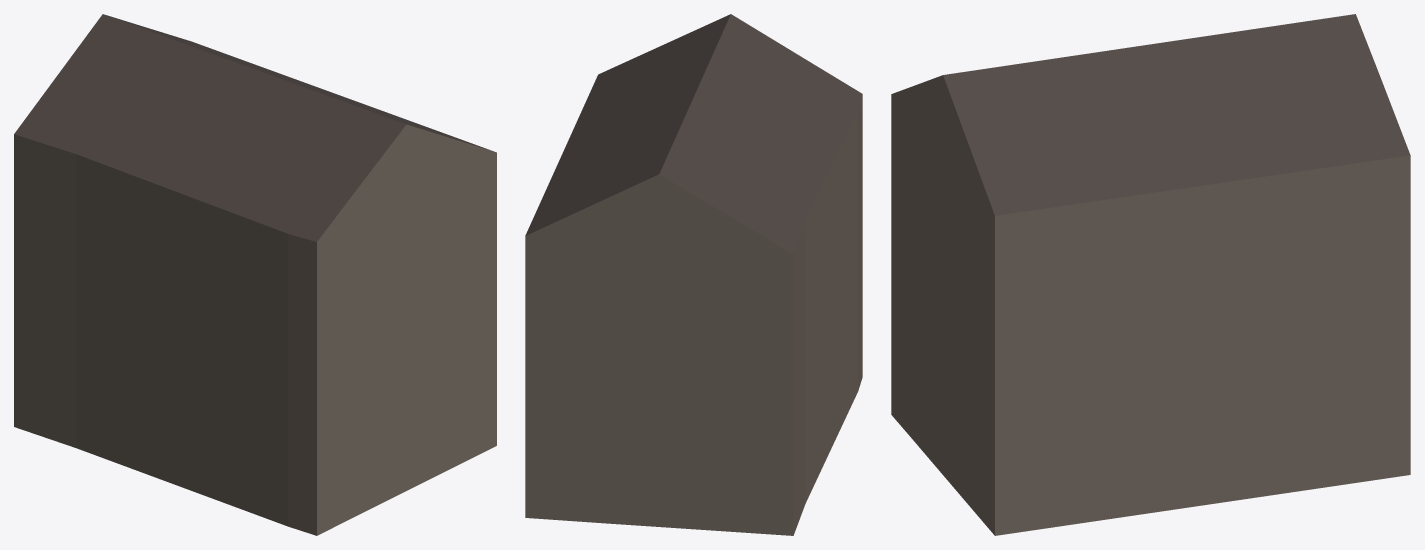
The picture shows the model from 3 angles, left to right: view 1: azimuth 30°, elevation 25°; view 2: azimuth 150°, elevation 25°; view 3: azimuth 270°, elevation 25°; orthographic projection. The views are drawn at different scales.
Parts seen in each view (by area): view 1: HP-w1198645074; view 2: HP-w1198645074; view 3: HP-w1198645074.
Boxes of the visible parts, box(x1,y1,x2,y2) form: HP-w1198645074: box(14, 14, 496, 535); HP-w1198645074: box(525, 14, 862, 535); HP-w1198645074: box(891, 14, 1410, 535).
Bounding box in the file's own units: 7.36 × 7.51 × 8.84.
